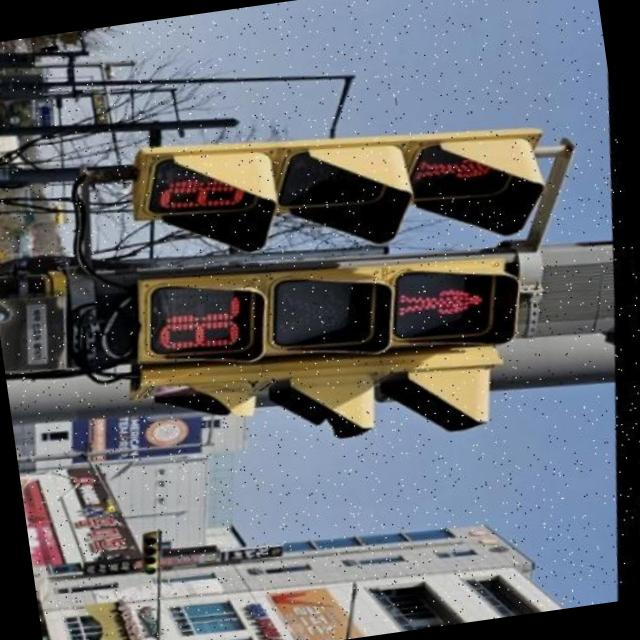red_light: (144, 117, 536, 255), (151, 248, 524, 392)
